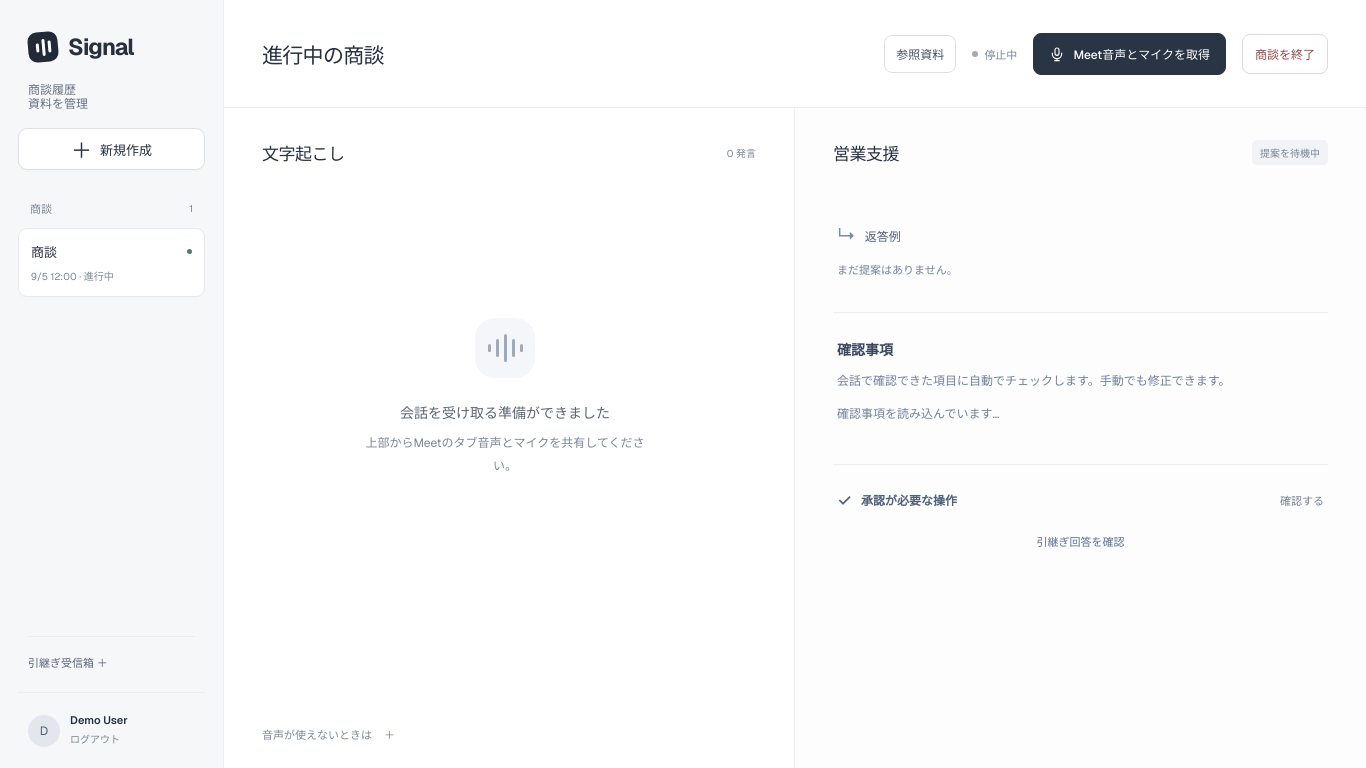
Test: authentication page › does not end the conversation when live audio flush fails
The width and height of the screenshot is (1366, 768).
Expected: the heading "進行中の商談" is shown, [262, 38, 384, 68]
Click the button "Meet音声とマイクを取得" at coordinates (1130, 54), box [1033, 32, 1226, 74]
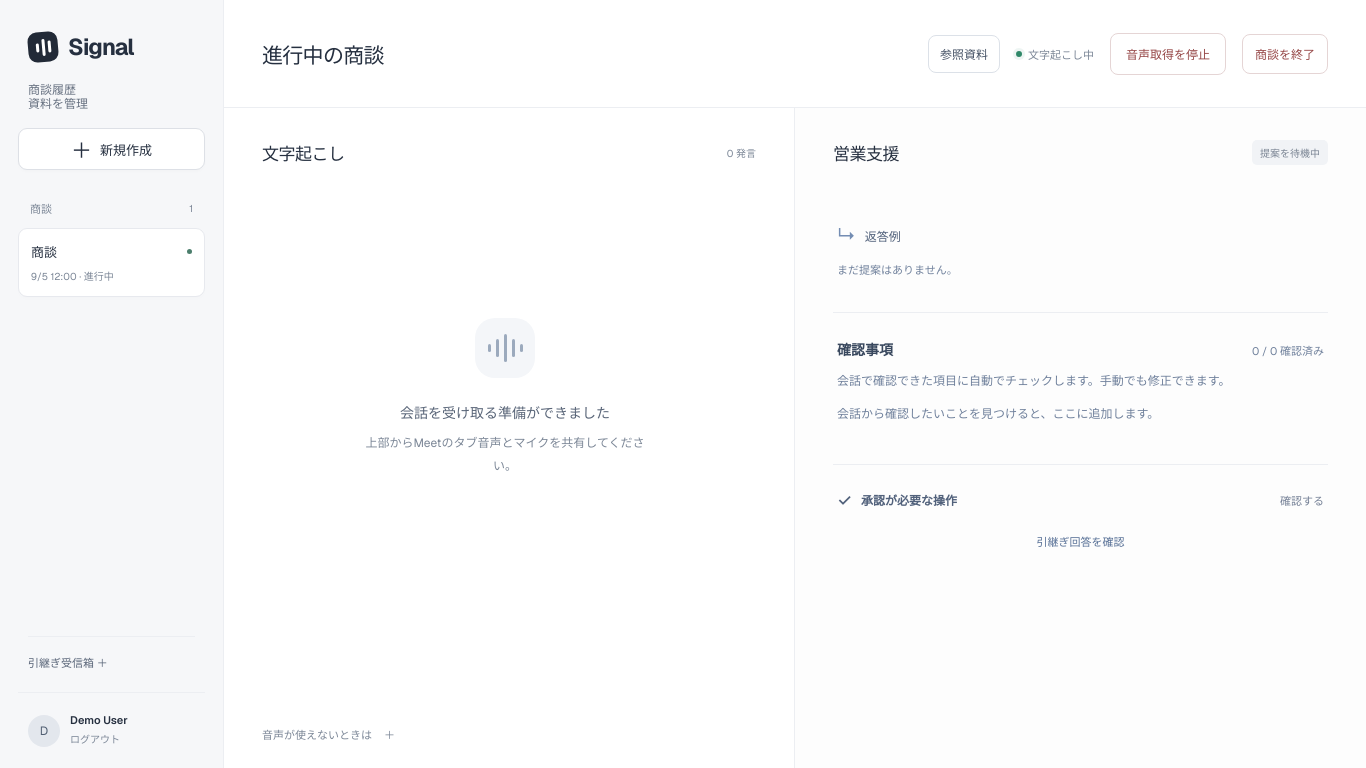
Result: the text "文字起こし中" is shown at [1016, 46, 1094, 62]
Click the button "商談を終了" at coordinates (1285, 54), box [1242, 34, 1328, 74]
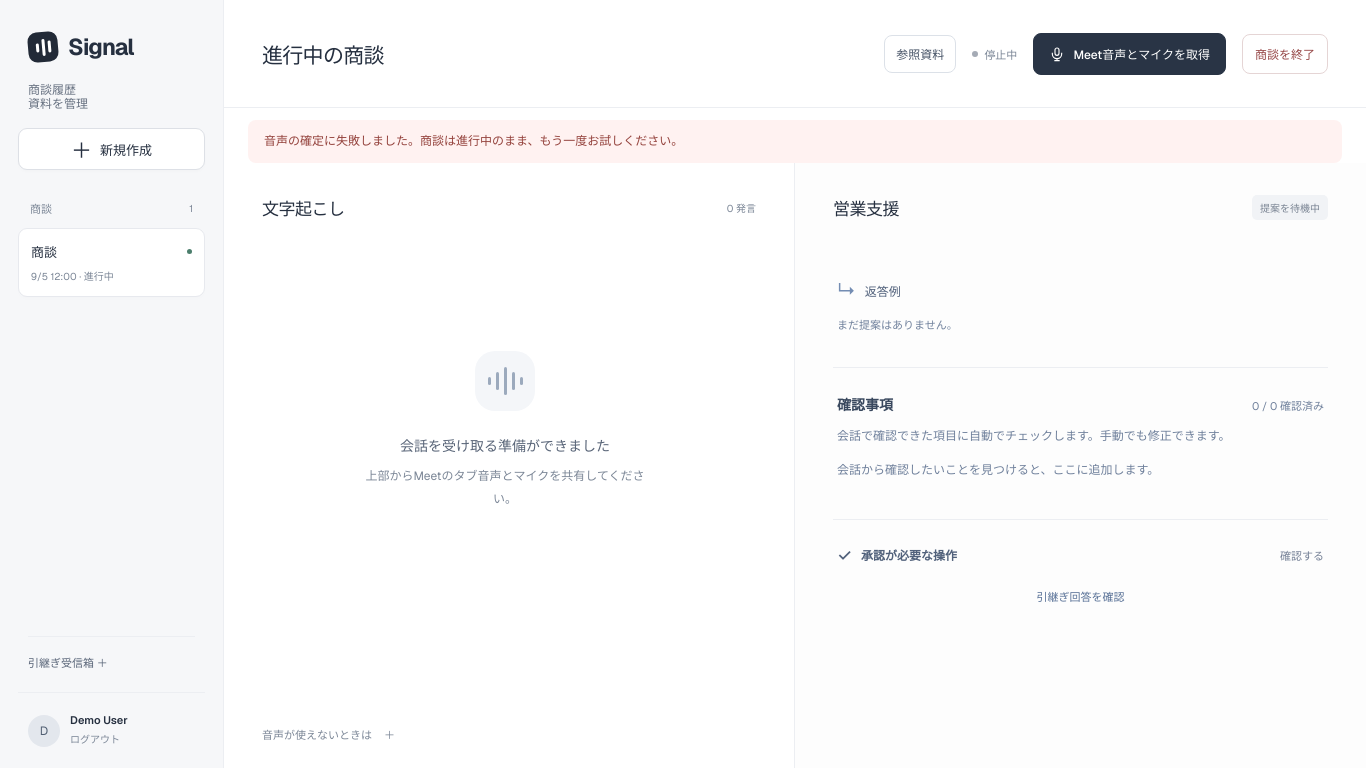
Result: the text "音声の確定に失敗しました。商談は進行中のまま、もう一度お試しください。" is shown at [248, 120, 1342, 163]
